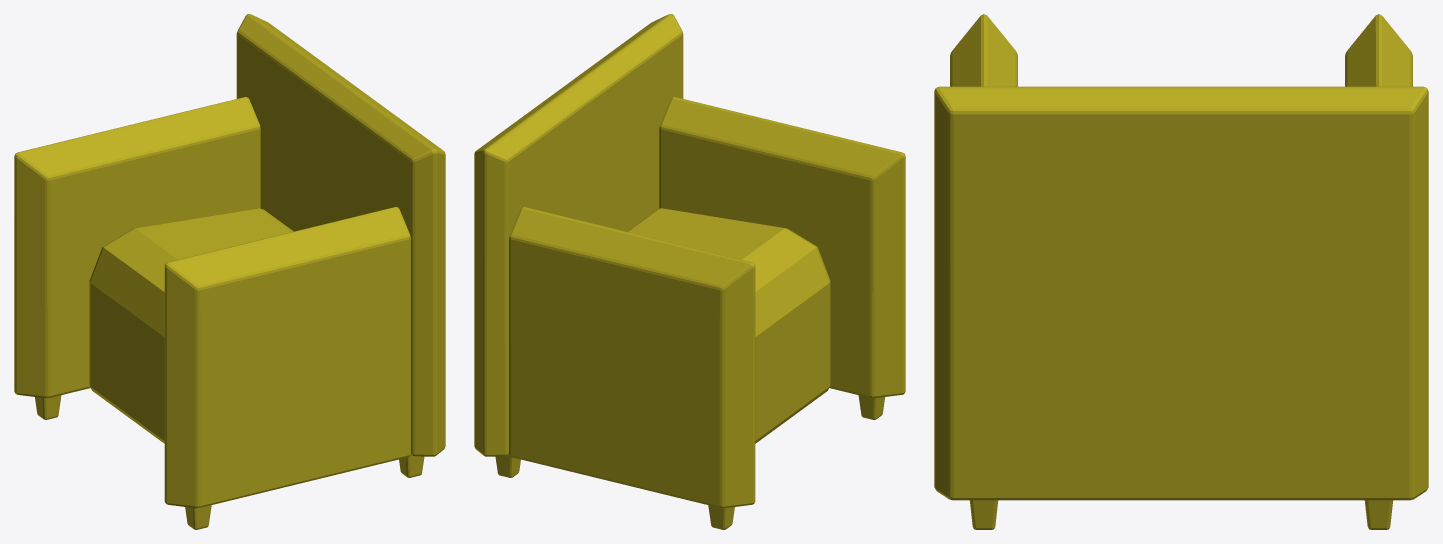
File: poltrona.fbx
3 renders of one model, left to right at view 1: azimuth 30°, elevation 25°; view 2: azimuth 150°, elevation 25°; view 3: azimuth 270°, elevation 25°, orthographic. The views are drawn at different scales.
Parts seen in each view (by area): view 1: sofa1; view 2: sofa1; view 3: sofa1.
Boxes of the visible parts, x1,y1,x2,y2 form: sofa1: (14,14,445,529); sofa1: (474,14,905,529); sofa1: (934,14,1428,529).
Bounding box in the file's own units: 1.06 × 1.27 × 1.29.
